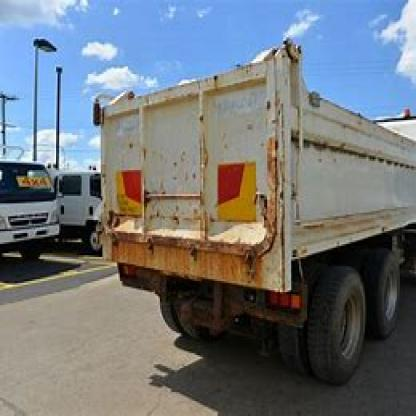dump_truck: (93, 24, 414, 394)
